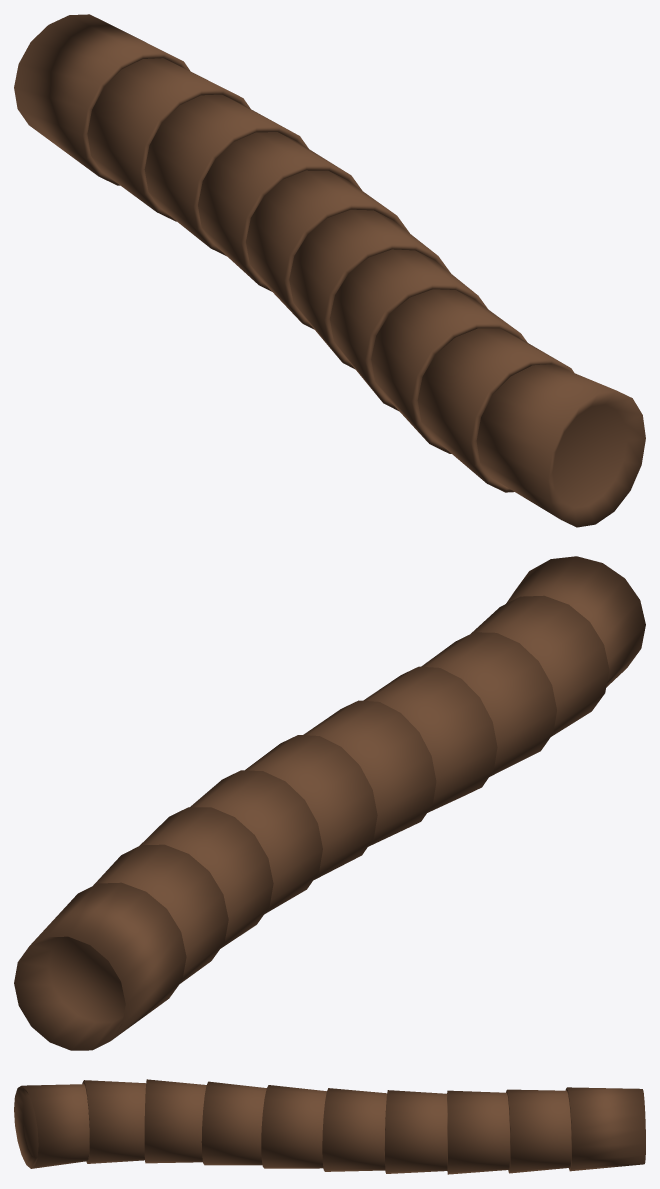
Rendered from log.fbx.
3 renders of one model, top to bottom at view 1: azimuth 30°, elevation 25°; view 2: azimuth 150°, elevation 25°; view 3: azimuth 270°, elevation 25°, orthographic. The views are drawn at different scales.
Visible parts, largest first — view 1: Cylinder; view 2: Cylinder; view 3: Cylinder.
Part boxes in pixels (box(x1,y1,x2,y2)): Cylinder: box(14, 14, 645, 527); Cylinder: box(14, 556, 645, 1050); Cylinder: box(14, 1079, 645, 1174).
Size of the model in its own units: 289 by 224 by 1670.
